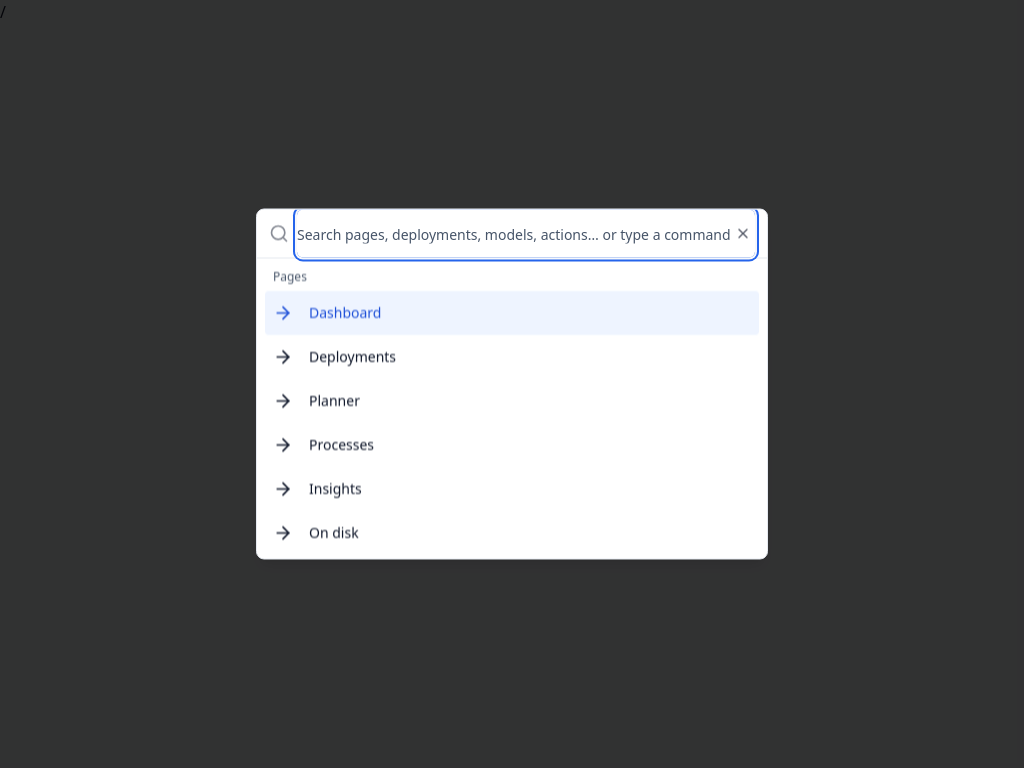
Test: ⌘K Ask mode › keyboard: arrows move between interpretations, Enter picks
Type "qwen thing" into the dropdown with placeholder "type a command".
click(526, 234); type("qwen thing")  # box [297,210,755,258]
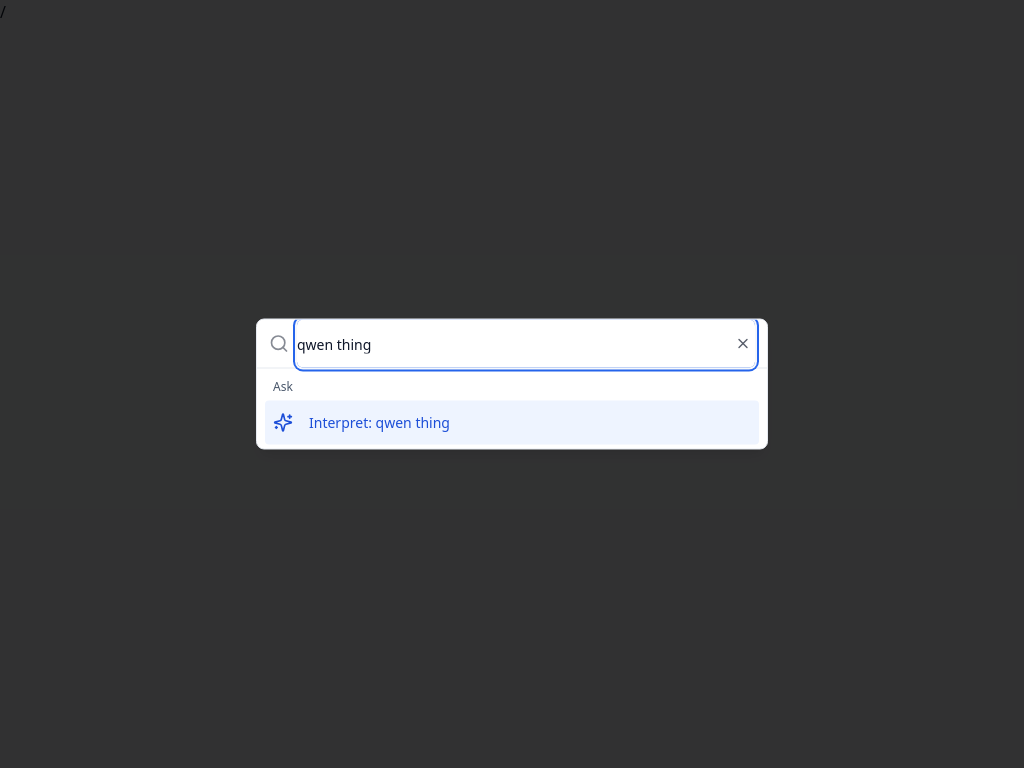
Press Enter
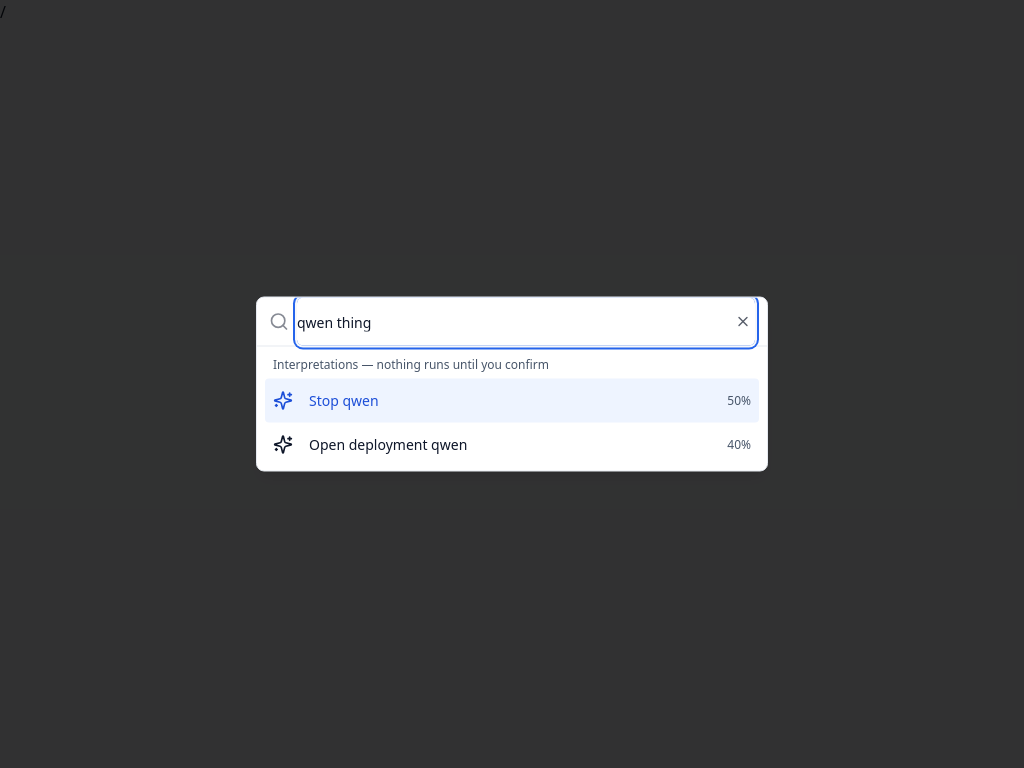
Expected: the option "Open deployment qwen 40%" is shown, [273,434,751,454]
Press Arrowdown Enter
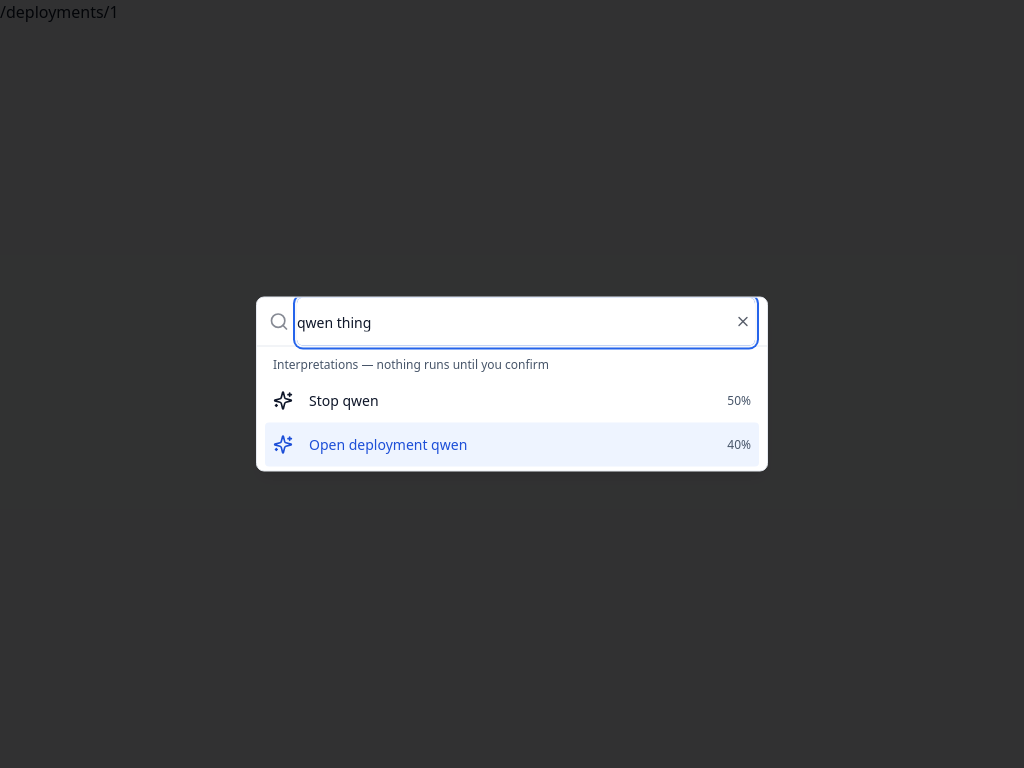
Expected: the text with test id "where" reads "/deployments/1", [0,1,119,23]
